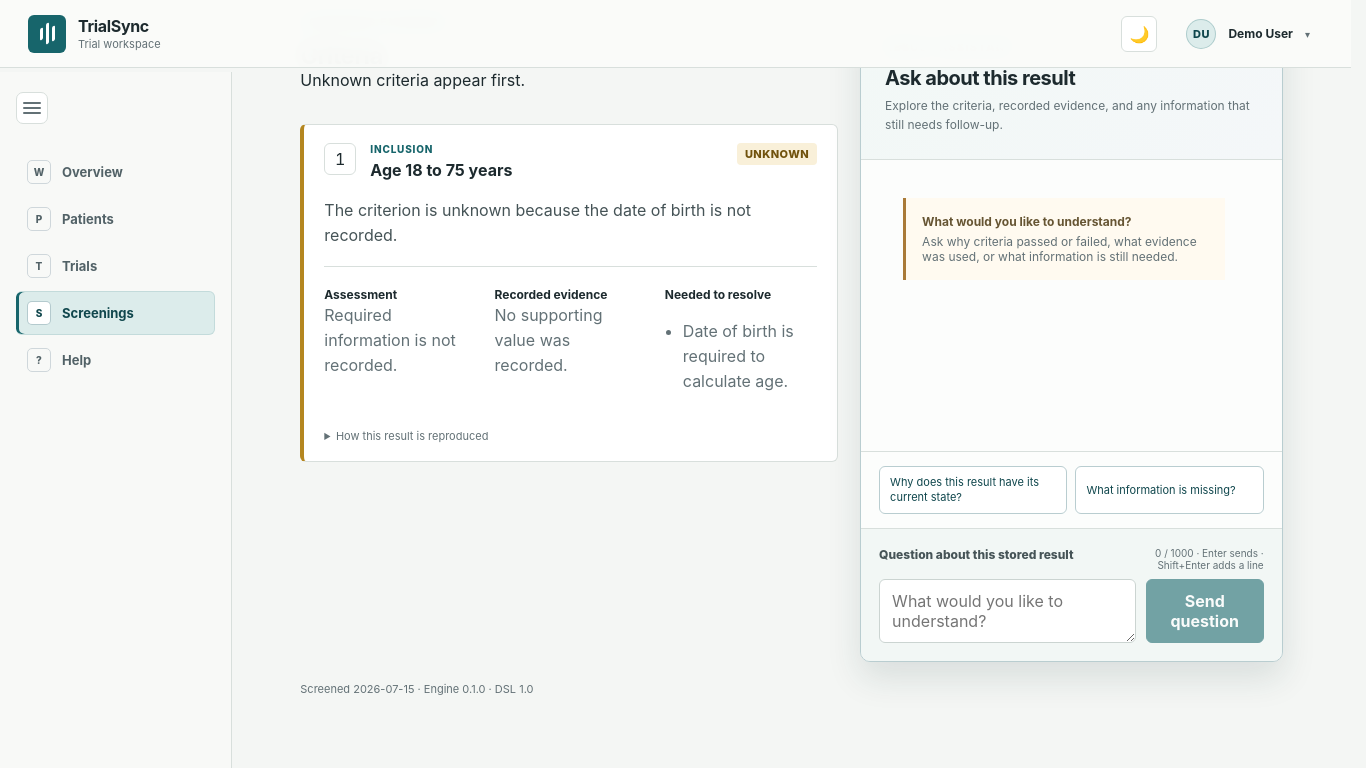
Test: TrialSync Phase 5 screening workflow › renders ASSISTANT_TIMEOUT as a system error rather than an empty answer
(page scrolled)
Type "Explain this result" into the text box labelled "Question about this stored result" at [1007, 611], box left=879, top=579, right=1136, bottom=643
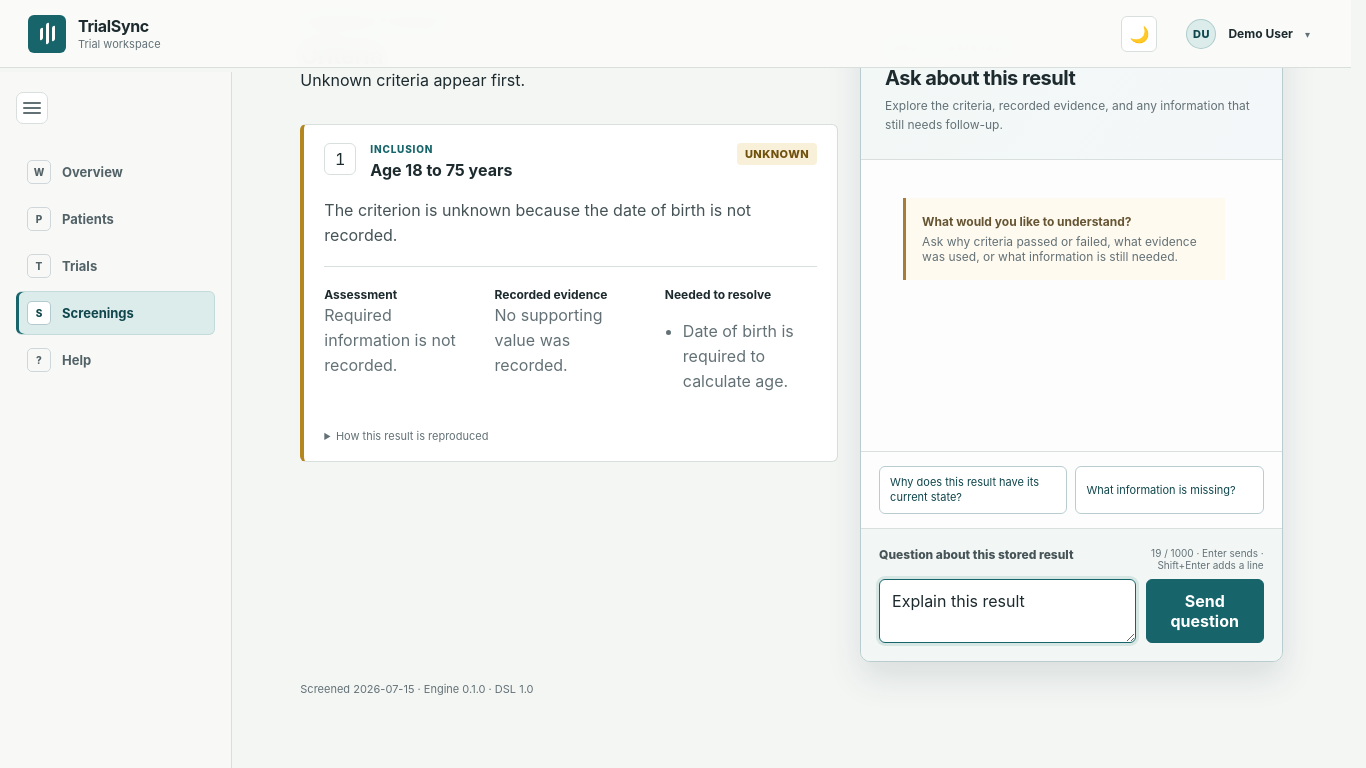
Click the button "Send question" at [1205, 611], box left=1146, top=579, right=1264, bottom=643
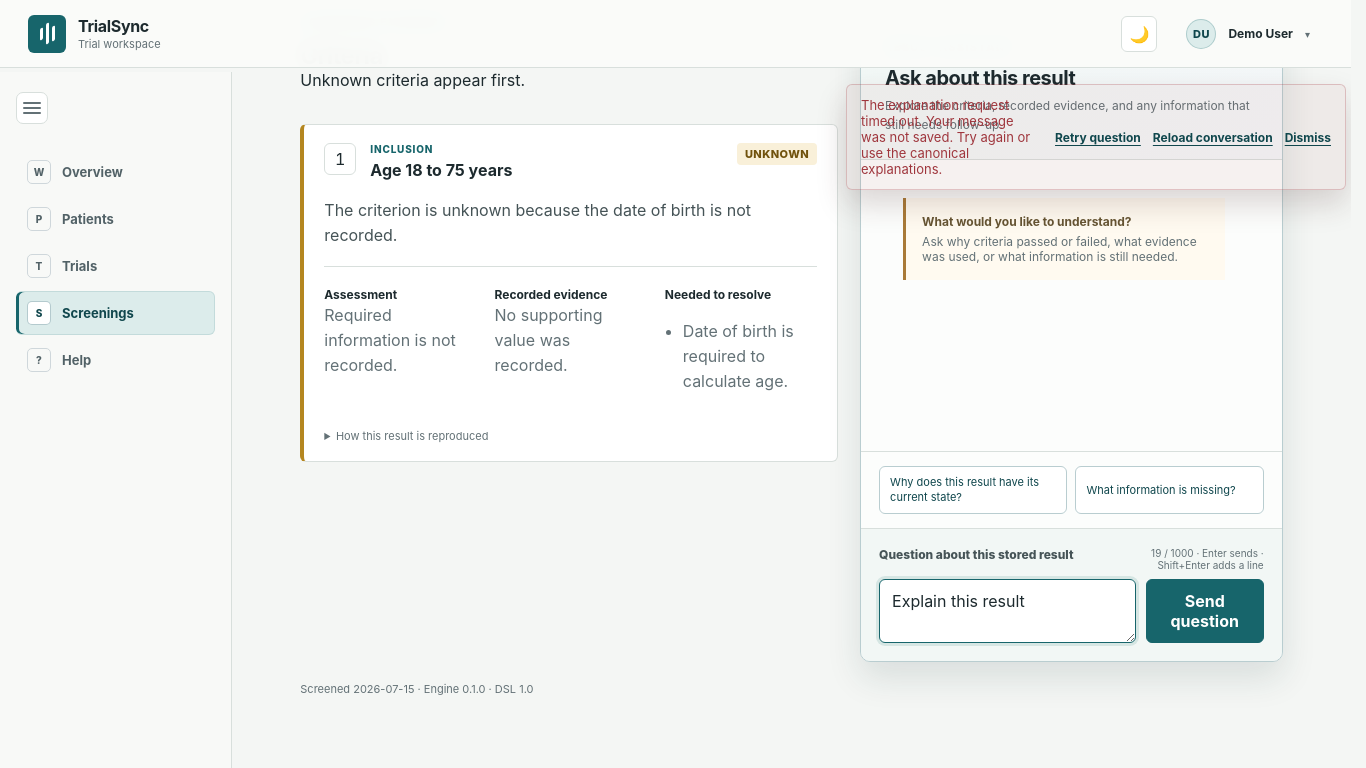
Check: the message shows "timed out", box left=861, top=97, right=1030, bottom=177
Click the button with aria-label "Dismiss chat error" at [1308, 137], box left=1285, top=124, right=1331, bottom=150
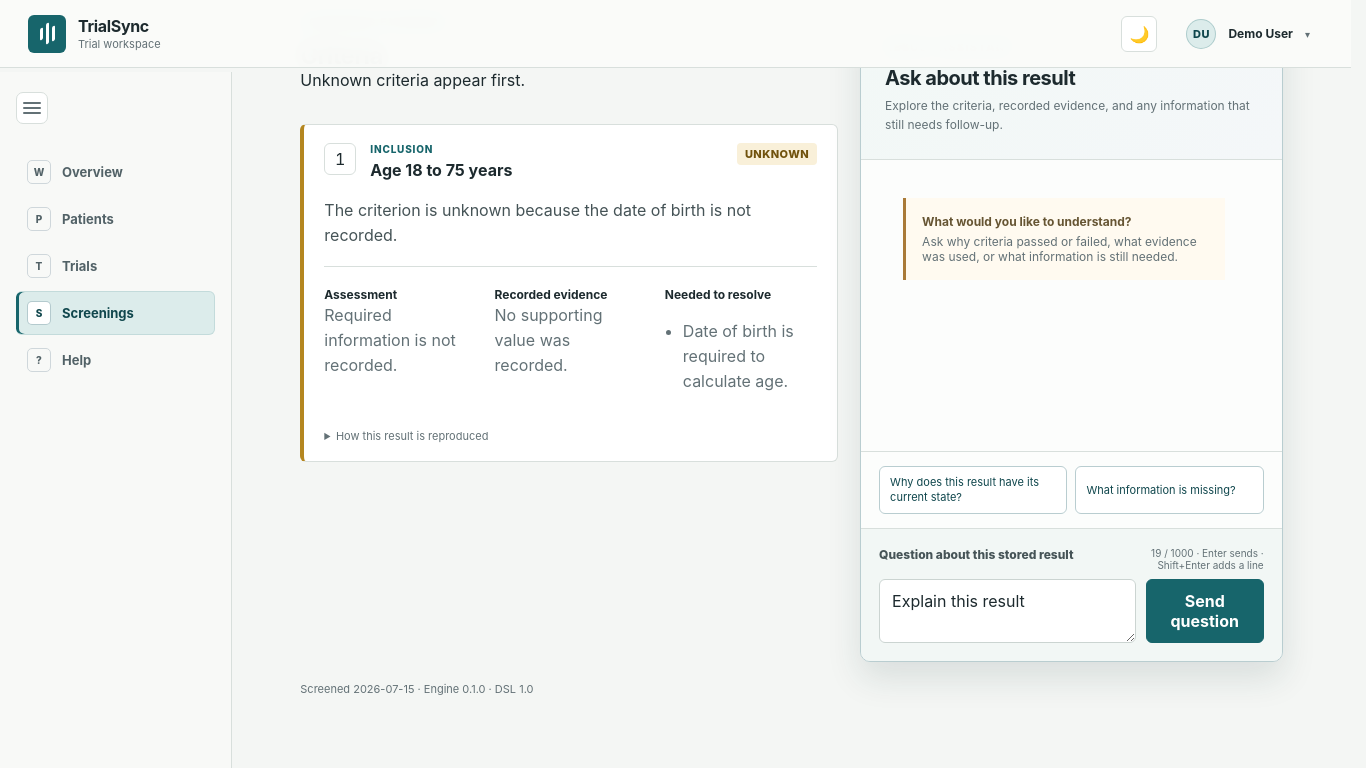
Check: the message "The explanation request timed out. Your message was not saved. Try again or use" is gone
